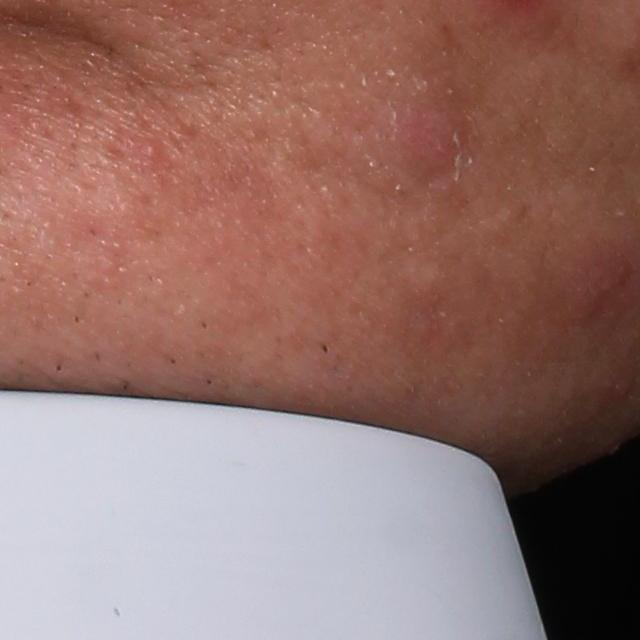hypertrophic_scar: (399, 258, 454, 292)
papule: (367, 89, 472, 182), (556, 243, 629, 326)
